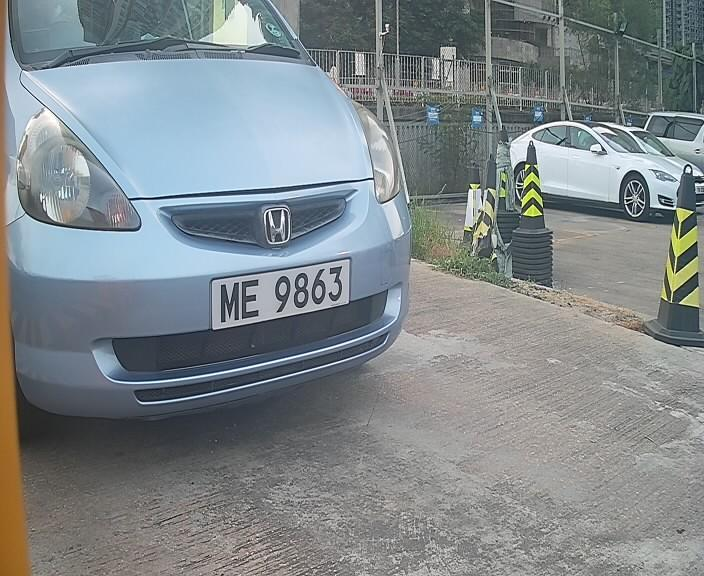License Plate: (202, 258, 359, 330)
